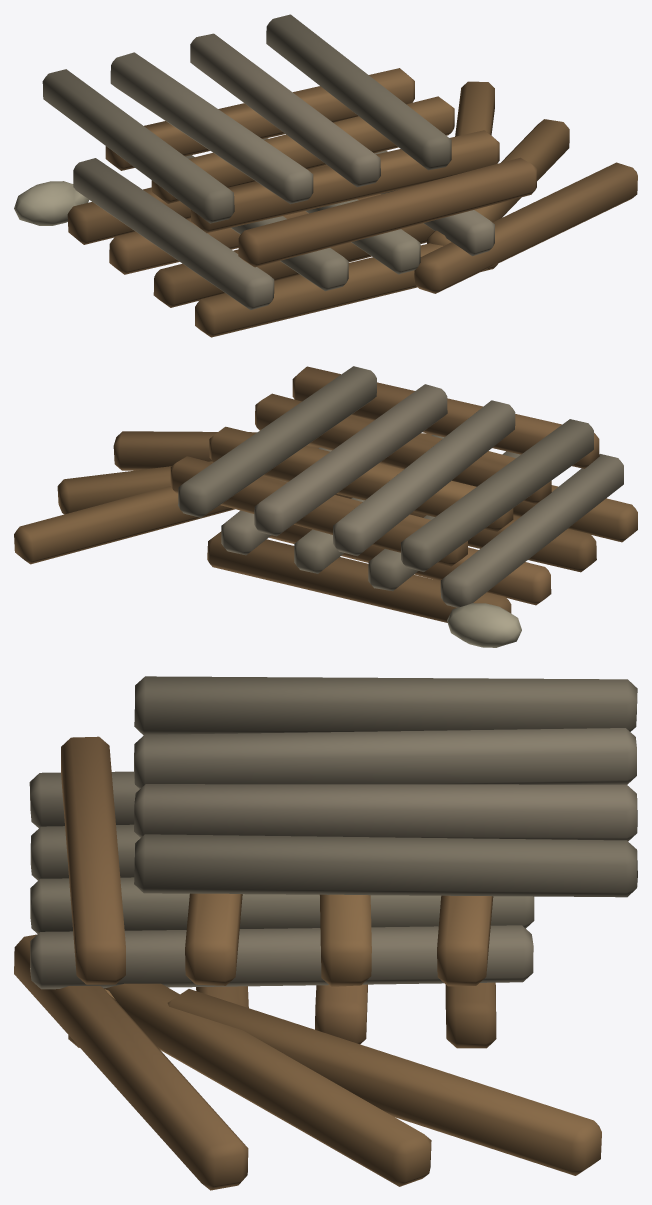
File: lagging_stack_b.glb
3 views of the same model, one above another, from view 1: azimuth 30°, elevation 25°; view 2: azimuth 150°, elevation 25°; view 3: azimuth 270°, elevation 25° (orthographic). The views are drawn at different scales.
Visible parts, largest first — view 1: Surface; view 2: Surface; view 3: Surface.
Part boxes in pixels (x1=…): Surface: x1=14, y1=14, x2=637, y2=337; Surface: x1=14, y1=366, x2=637, y2=647; Surface: x1=14, y1=676, x2=637, y2=1190.
Bounding box in the file's own units: 3.48 × 0.8516 × 2.48.
